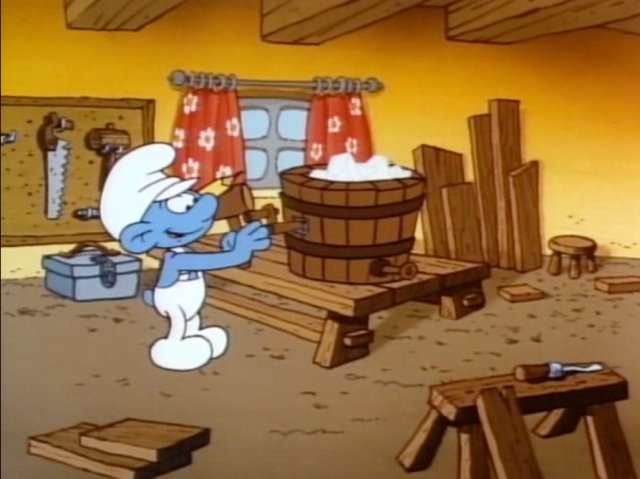smurf: (97, 140, 228, 372)
